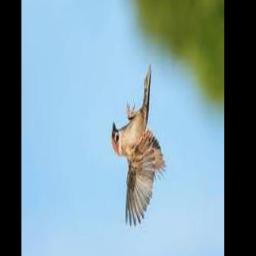Sparrow: (111, 64, 166, 226)
